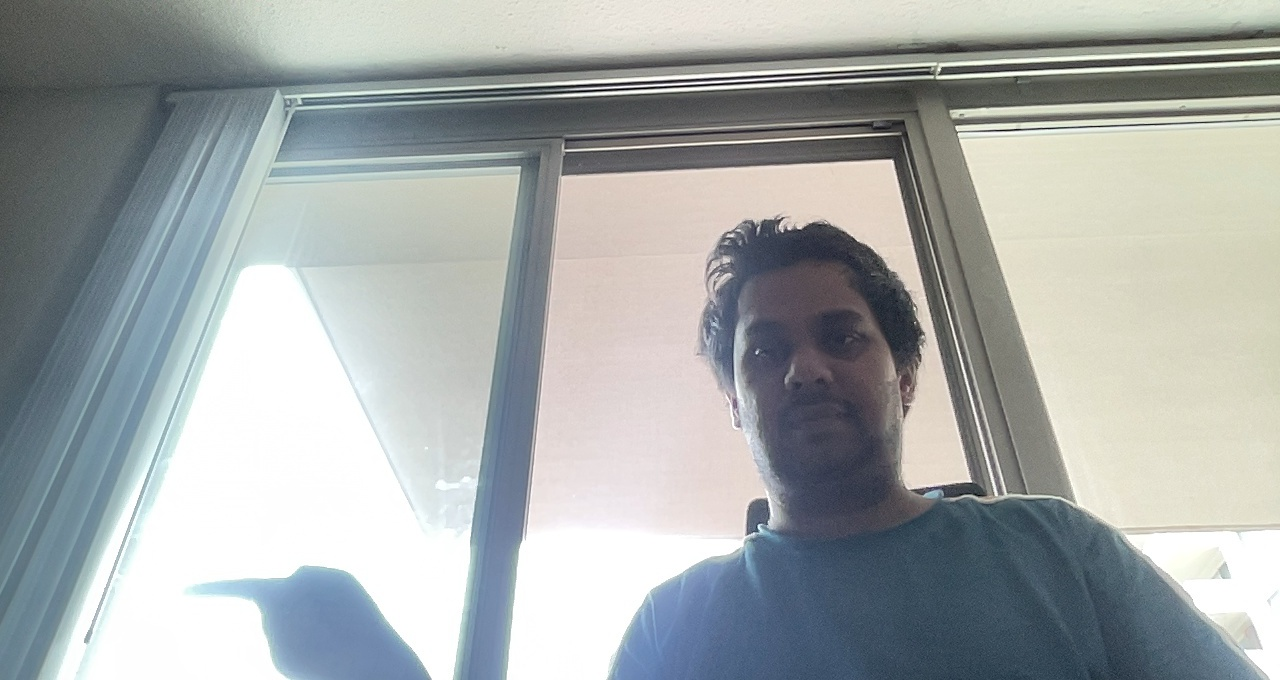fingerright: (175, 560, 395, 678)
